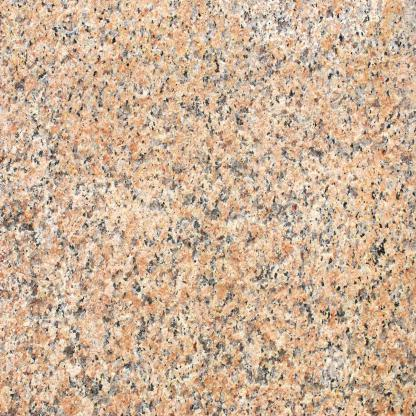Igneous_Granite: (6, 6, 416, 415)
